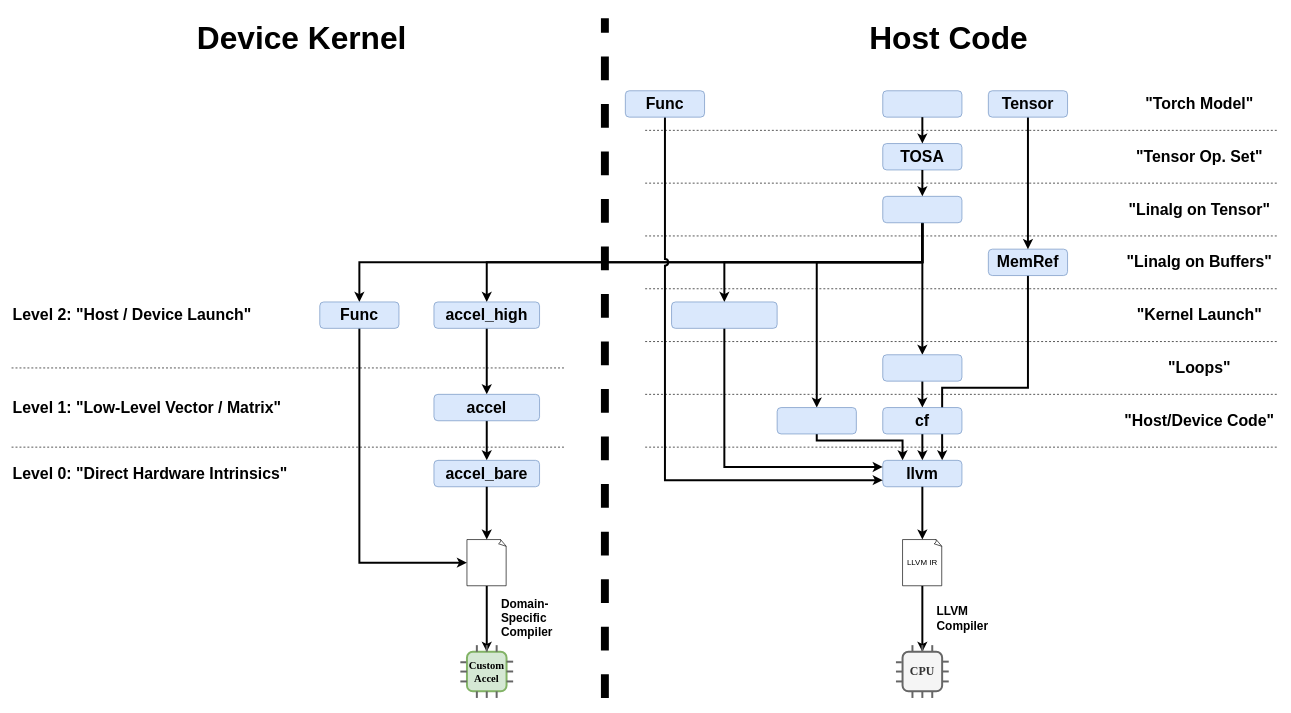
Image size: 1291x713. Some labels were removed from this diagram. Here are the shapes that lost their labels. From the top down, the centre of each, then its label:
At pixel 922 103: "Torch".
At pixel 922 209: "Linalg".
At pixel 724 314: "accel_host".
At pixel 922 367: "scf".
At pixel 816 420: "arith".
At pixel 486 562: "DSL".
